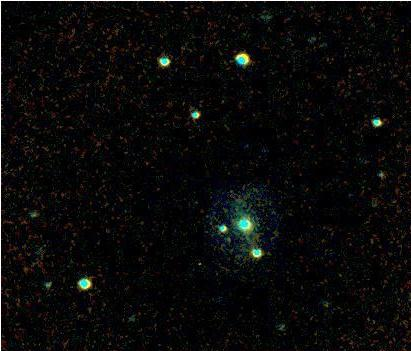star: (216, 225, 246, 255)
